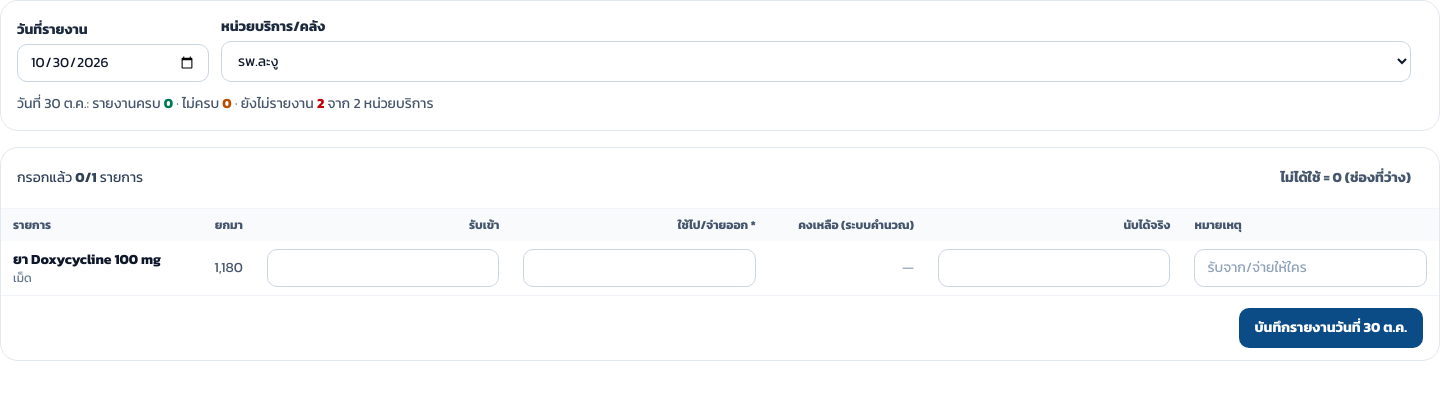
daily form computes balance and blocks blanks
Click the button "บันทึกรายงานวันที่ 30 ต.ค.".
click(1331, 328)  # box [1238, 308, 1423, 348]
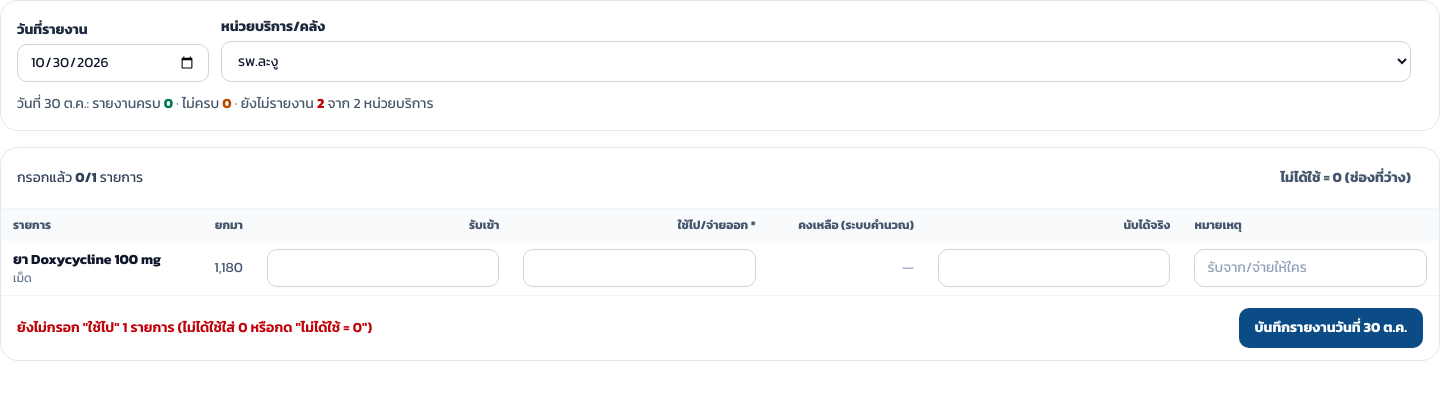
Expected: the message shows "ยังไม่กรอก", [17, 317, 372, 338]
Type "150" into the number field named "ใช้ไป ยา Doxycycline 100 mg".
click(640, 268); type("150")  # box [523, 249, 756, 287]
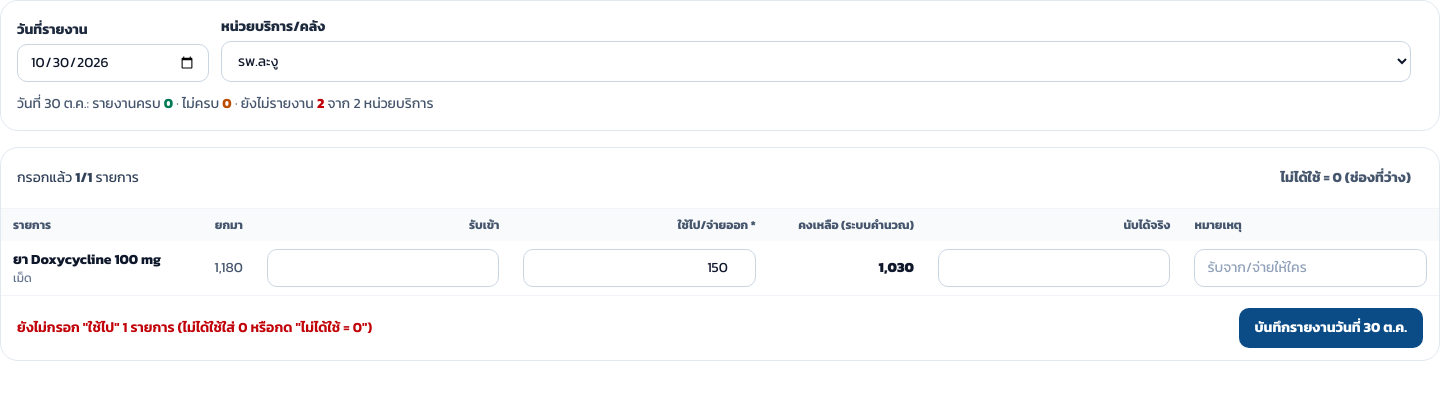
Expected: the text "1,030" is shown, [768, 241, 926, 295]
Type "1000" into the number field named "นับได้จริง ยา Doxycycline 100 mg".
click(1054, 268); type("1000")  # box [938, 249, 1170, 287]
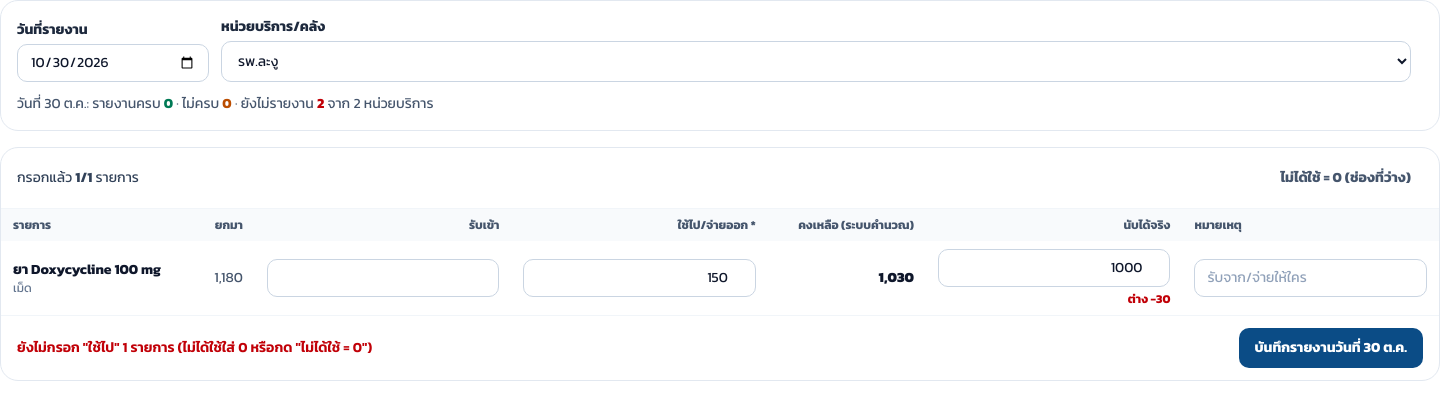
Expected: the text "ต่าง -30" is shown, [1128, 290, 1170, 308]
